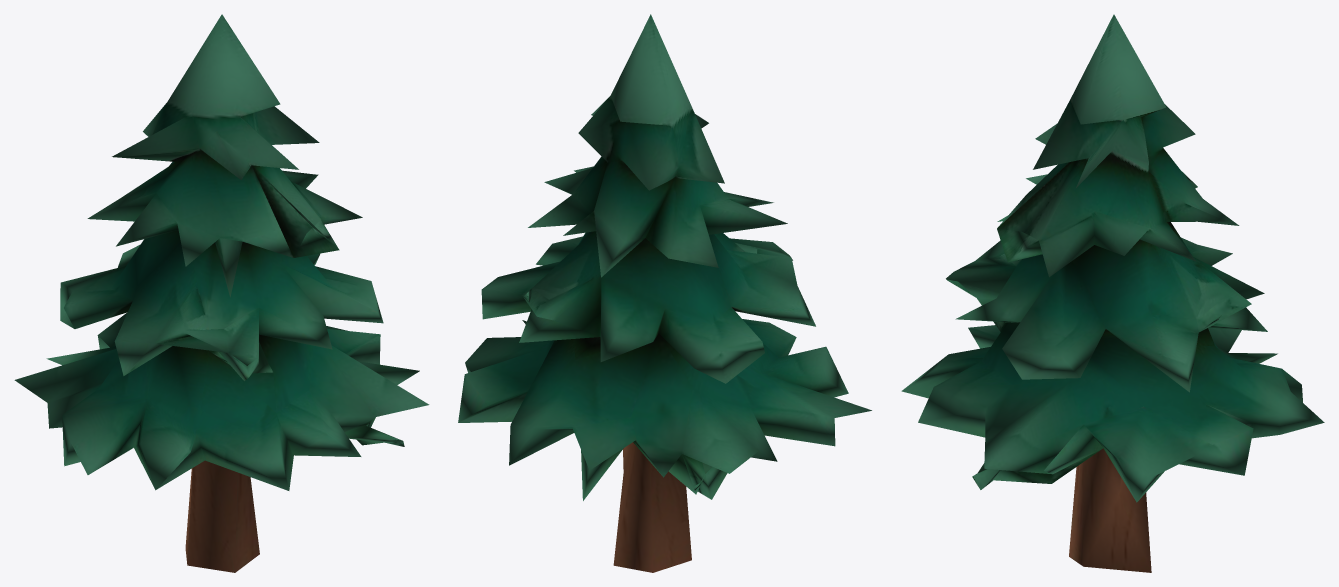
The model's file is pine.glb.
3 renders of one model, left to right at view 1: azimuth 30°, elevation 25°; view 2: azimuth 150°, elevation 25°; view 3: azimuth 270°, elevation 25°, orthographic.
Visible parts, largest first — view 1: tripo_node_e6941299-c023-4536-9487-59826309c7ff; view 2: tripo_node_e6941299-c023-4536-9487-59826309c7ff; view 3: tripo_node_e6941299-c023-4536-9487-59826309c7ff.
Boxes of the visible parts, x1,y1,x2,y2 form: tripo_node_e6941299-c023-4536-9487-59826309c7ff: [14, 14, 429, 572]; tripo_node_e6941299-c023-4536-9487-59826309c7ff: [458, 14, 871, 572]; tripo_node_e6941299-c023-4536-9487-59826309c7ff: [901, 14, 1324, 572].
Size of the model in its own units: 0.6555 by 0.9792 by 0.6837.
Materials: 1 (1 with a texture image).
